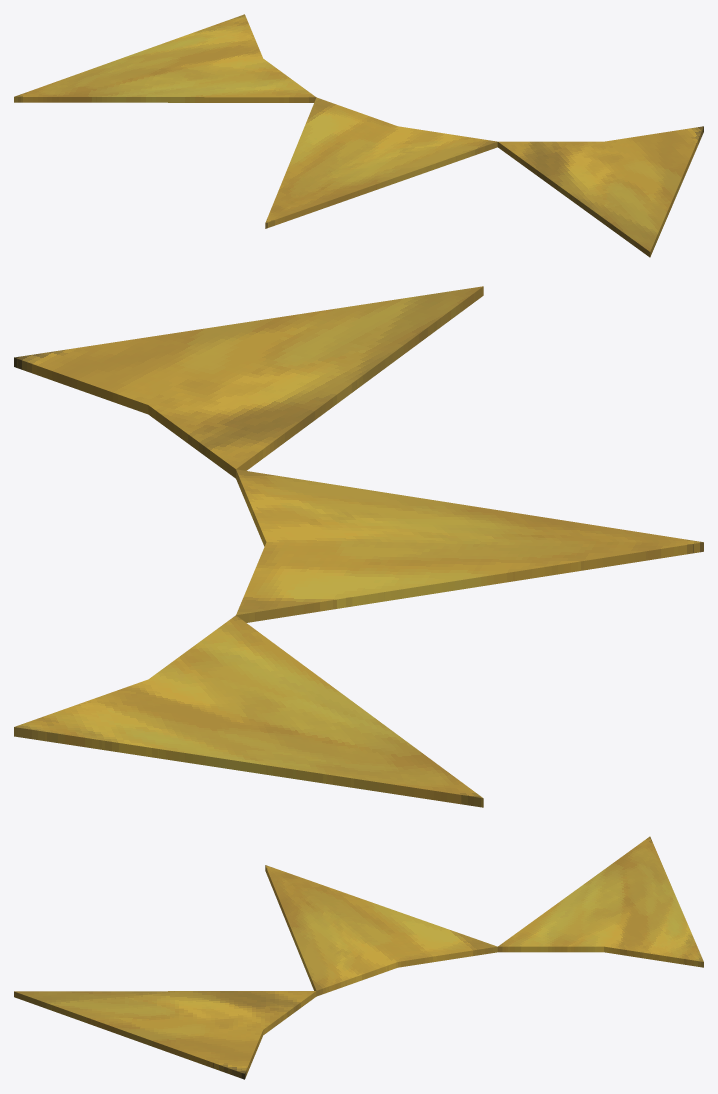
Rendered from 3petal.glb.
The picture shows the model from 3 angles, top to bottom: view 1: azimuth 30°, elevation 25°; view 2: azimuth 150°, elevation 25°; view 3: azimuth 270°, elevation 25°; orthographic projection. The views are drawn at different scales.
Parts seen in each view (by area): view 1: sun-3petal; view 2: sun-3petal; view 3: sun-3petal.
Boxes of the visible parts, box(x1,y1,x2,y2) form: sun-3petal: box(14, 14, 703, 257); sun-3petal: box(14, 286, 703, 807); sun-3petal: box(14, 836, 703, 1079).
Size of the model in its own units: 0.8896 by 0.01 by 1.09.
Materials: 1 (1 with a texture image).
